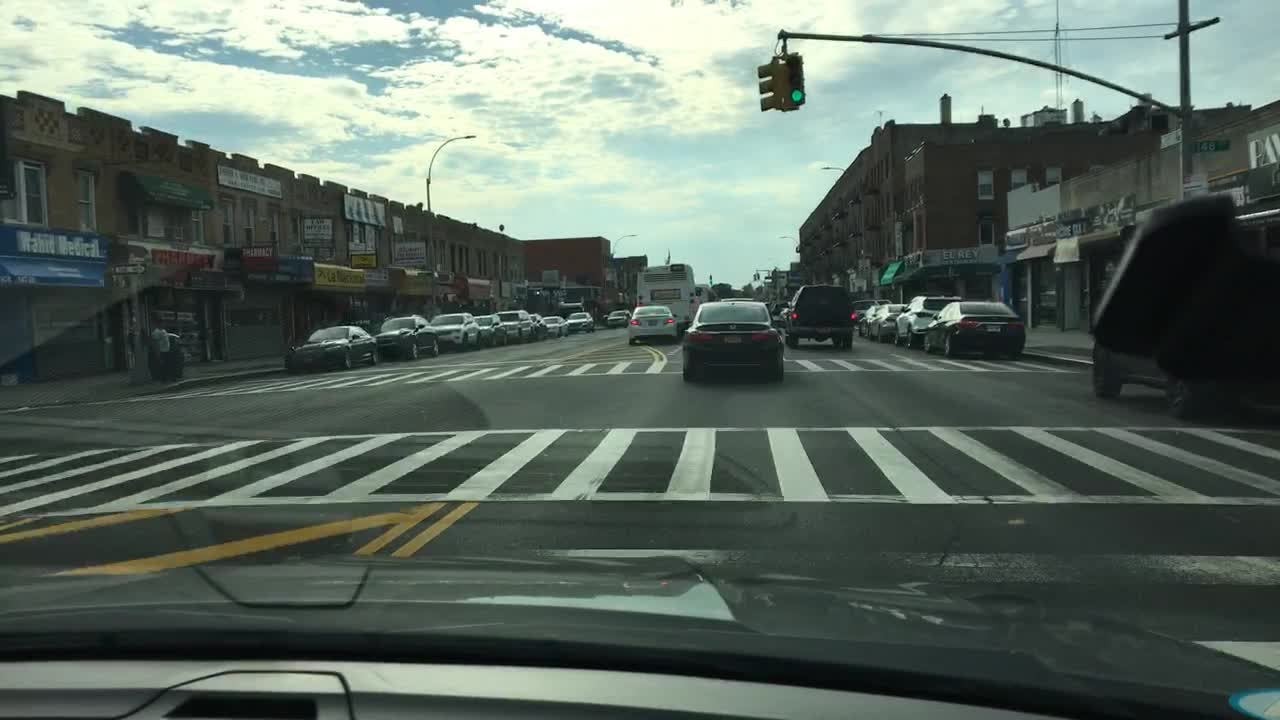bus: (635, 262, 695, 324)
car: (1088, 195, 1278, 418), (682, 300, 788, 383), (921, 300, 1027, 361), (783, 286, 857, 348), (284, 324, 377, 372), (892, 293, 962, 348), (372, 314, 440, 360), (430, 311, 484, 351), (629, 303, 676, 345), (497, 309, 537, 346), (876, 300, 909, 344), (473, 314, 508, 349), (848, 295, 890, 324), (857, 304, 881, 339), (564, 311, 596, 333), (769, 298, 787, 330), (544, 316, 566, 338), (603, 309, 629, 325), (696, 286, 721, 302), (530, 312, 544, 340)
person: (124, 315, 150, 370), (146, 320, 165, 383), (165, 325, 183, 383)
traffic light: (775, 52, 806, 113), (757, 56, 777, 113)
traffic sign: (1192, 137, 1231, 154), (1157, 128, 1183, 147), (111, 263, 150, 274)
